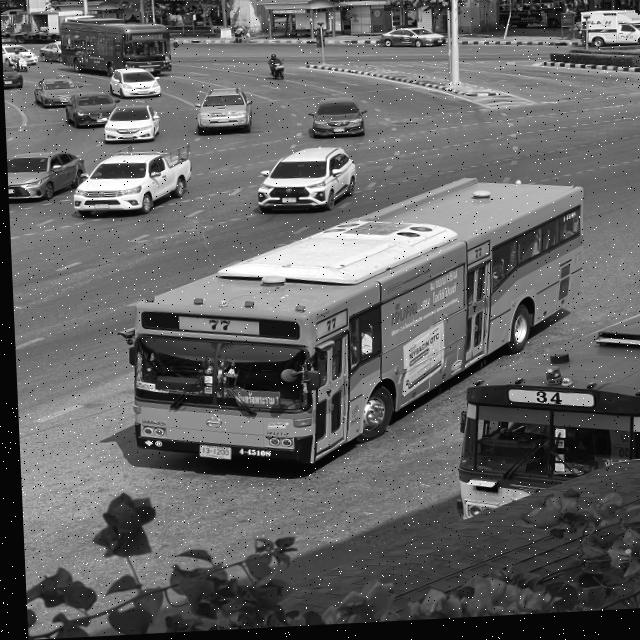BMTA-bus: (116, 179, 593, 479)
Bus-Line-Number: (185, 315, 240, 340), (319, 321, 336, 338)
Destination-Sign-Normal: (227, 390, 278, 416)
